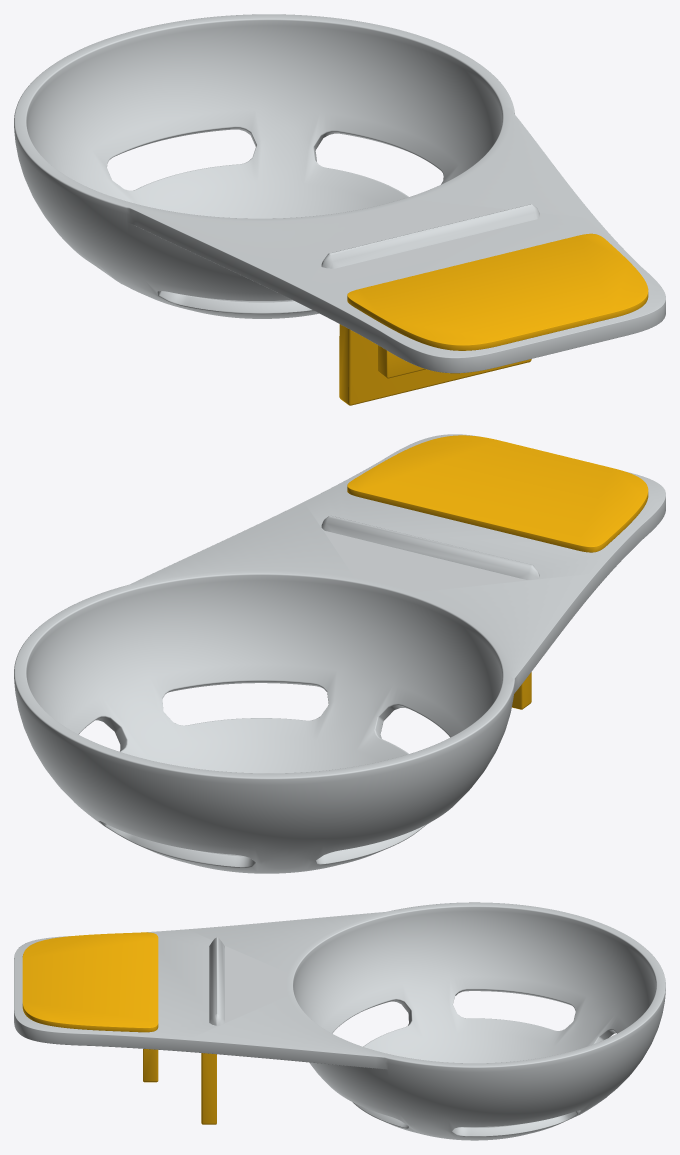
3 views of the same model, one above another, from view 1: azimuth 30°, elevation 25°; view 2: azimuth 150°, elevation 25°; view 3: azimuth 270°, elevation 25° (orthographic). The views are drawn at different scales.
Parts seen in each view (by area): view 1: part_000_Slotted_body, part_002_Distal_grip, part_001_Rim_support_grip; view 2: part_000_Slotted_body, part_002_Distal_grip; view 3: part_000_Slotted_body, part_002_Distal_grip, part_001_Rim_support_grip.
Boxes of the visible parts, x1,y1,x2,y2 form: part_000_Slotted_body: (14, 14, 665, 373); part_002_Distal_grip: (347, 233, 648, 350); part_001_Rim_support_grip: (339, 324, 531, 405); part_000_Slotted_body: (14, 434, 665, 873); part_002_Distal_grip: (347, 435, 648, 552); part_000_Slotted_body: (14, 902, 665, 1140); part_002_Distal_grip: (22, 932, 158, 1032); part_001_Rim_support_grip: (143, 1049, 216, 1124).
Bounding box in the file's own units: 0.1 × 0.0399 × 0.167.
